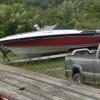Boat: (1, 20, 100, 64)
